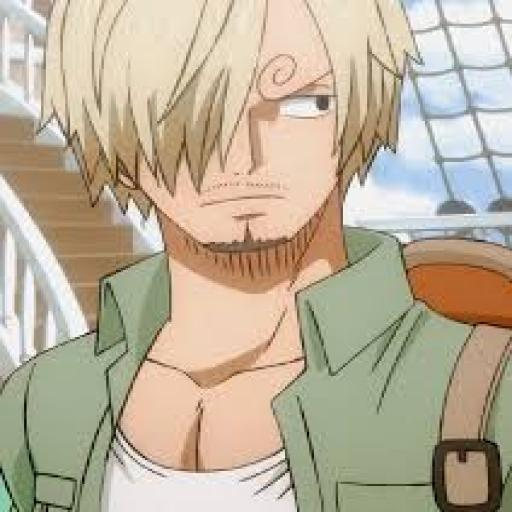sanji: (38, 0, 512, 512)
